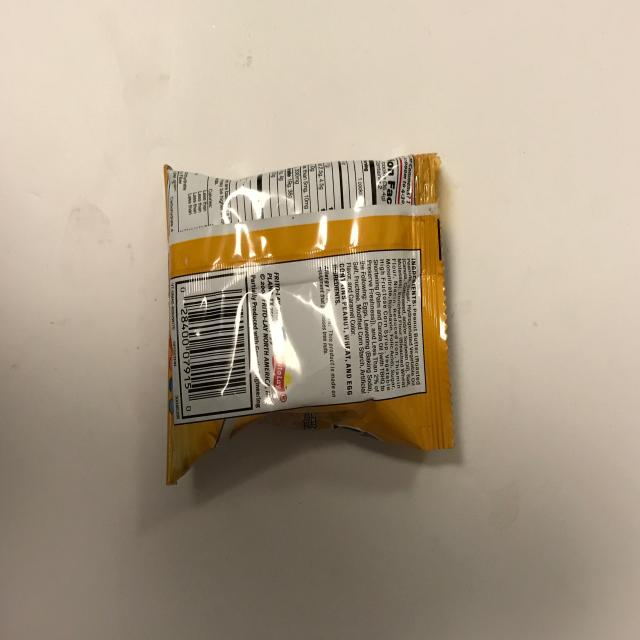trash: (164, 152, 455, 486)
